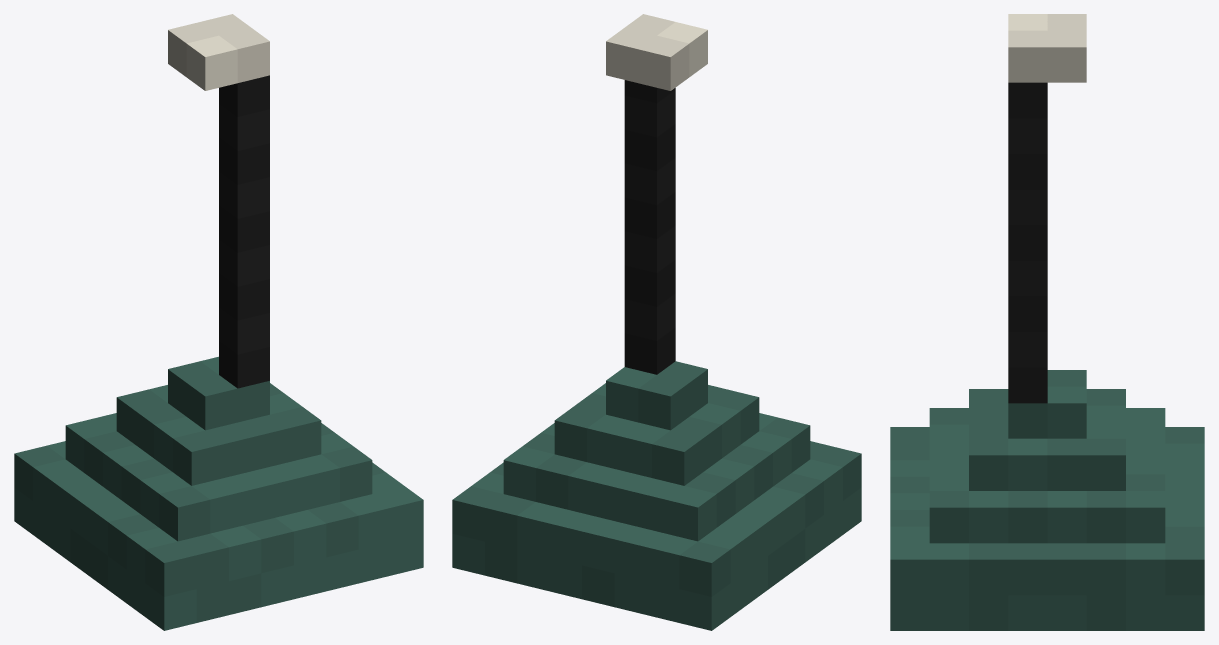
Rendered from suspension.glb.
The picture shows the model from 3 angles, left to right: view 1: azimuth 30°, elevation 25°; view 2: azimuth 150°, elevation 25°; view 3: azimuth 270°, elevation 25°; orthographic projection. The views are drawn at different scales.
Visible parts, largest first — view 1: voxel__suspension__ns; view 2: voxel__suspension__ns; view 3: voxel__suspension__ns.
Part boxes in pixels (x1,y1,x2,y2): voxel__suspension__ns: (14, 14, 423, 630); voxel__suspension__ns: (452, 14, 861, 630); voxel__suspension__ns: (890, 14, 1204, 630).
Size of the model in its own units: 0.4 by 0.75 by 0.4.
